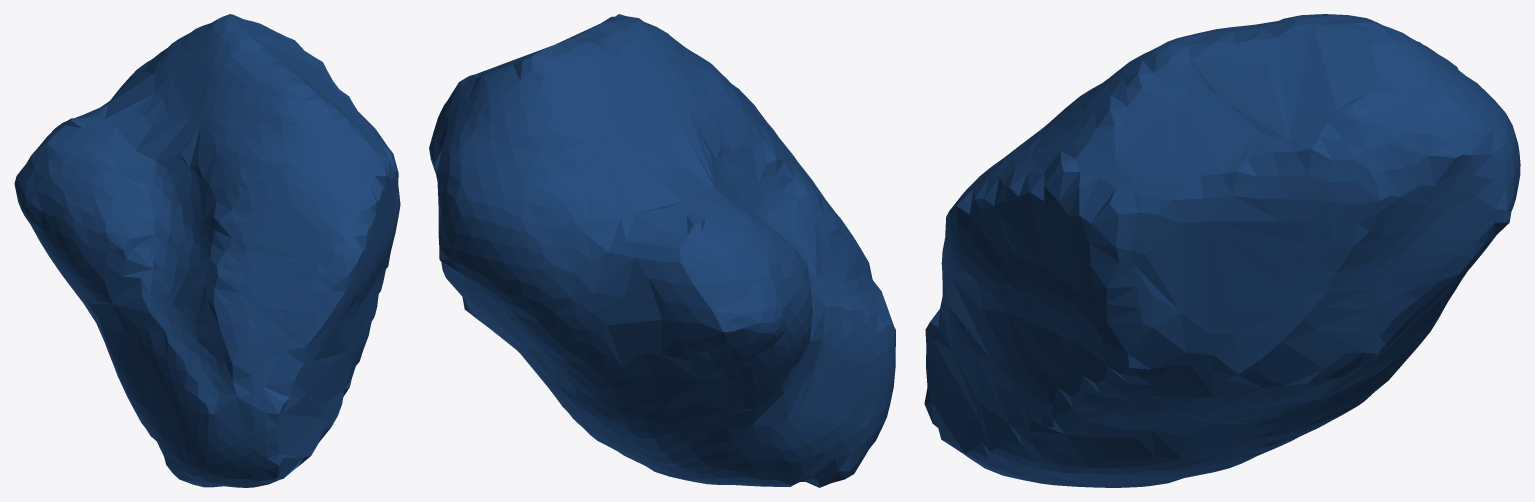
The model's file is Model_255_RH__Medial_geniculate_nucleus_(MG).obj.
The picture shows the model from 3 angles, left to right: view 1: azimuth 30°, elevation 25°; view 2: azimuth 150°, elevation 25°; view 3: azimuth 270°, elevation 25°; orthographic projection. The views are drawn at different scales.
Size of the model in its own units: 1.87 by 2.34 by 2.38.
